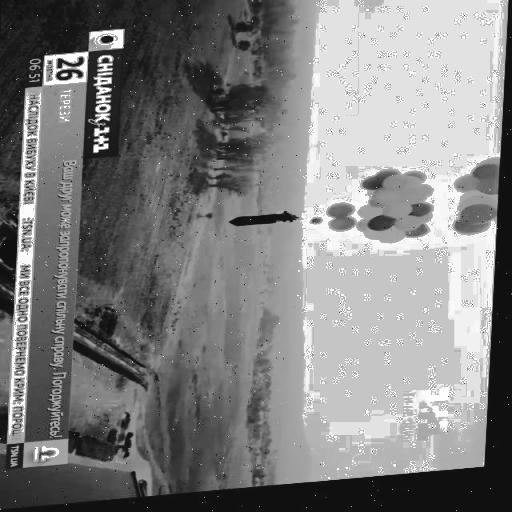balloon: (460, 203, 498, 223), (462, 214, 496, 235), (476, 167, 504, 190), (455, 228, 490, 246), (374, 196, 406, 212), (385, 210, 412, 228), (381, 235, 408, 251), (482, 185, 503, 205), (360, 211, 386, 227), (332, 224, 357, 240), (396, 224, 421, 240), (372, 224, 397, 240), (458, 185, 481, 202), (406, 232, 430, 248), (403, 201, 428, 216), (328, 211, 356, 224), (378, 177, 402, 192), (388, 183, 410, 199), (412, 210, 434, 225), (406, 184, 424, 201), (362, 184, 382, 198), (356, 228, 370, 242), (423, 192, 435, 206), (314, 224, 324, 230)
